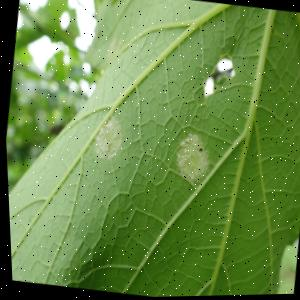Folha: (0, 0, 300, 300)
Fungo: (170, 130, 215, 189), (90, 112, 126, 163), (58, 9, 73, 32)
